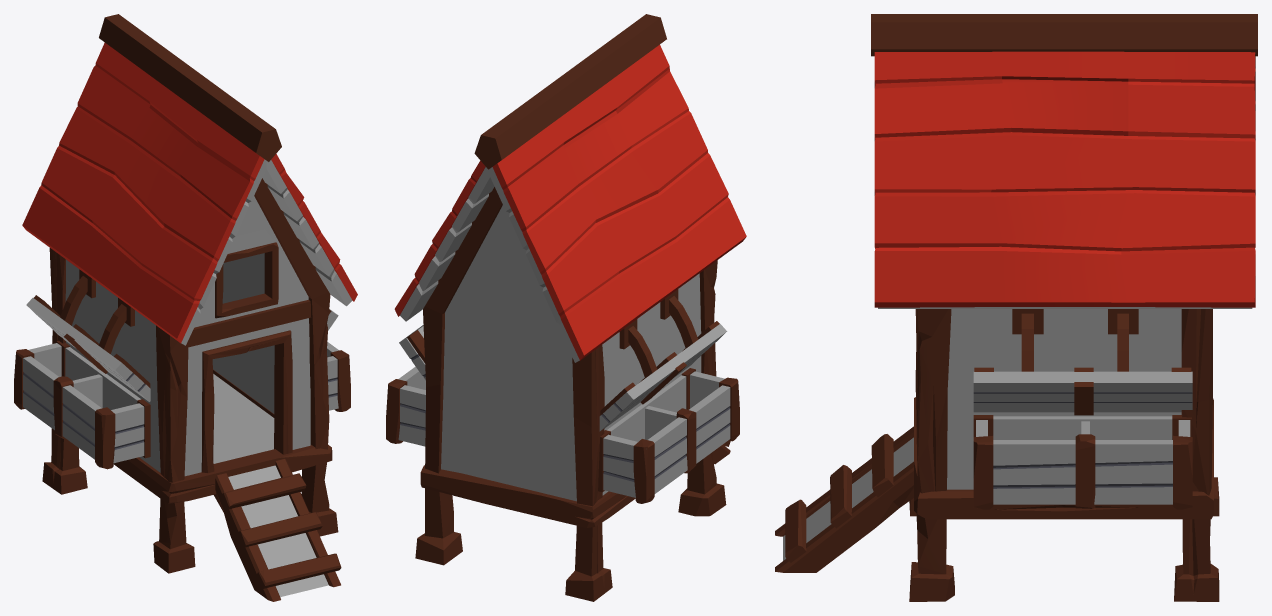
File: Henhouse.fbx
3 views of the same model, side by side, from view 1: azimuth 30°, elevation 25°; view 2: azimuth 150°, elevation 25°; view 3: azimuth 270°, elevation 25° (orthographic). The views are drawn at different scales.
Parts seen in each view (by area): view 1: Henhouse; view 2: Henhouse; view 3: Henhouse.
Part boxes in pixels (<box>): Henhouse: <box>14,14,357,601</box>; Henhouse: <box>386,14,746,601</box>; Henhouse: <box>775,14,1257,601</box>.
Size of the model in its own units: 58.06 by 97.2 by 79.7.
